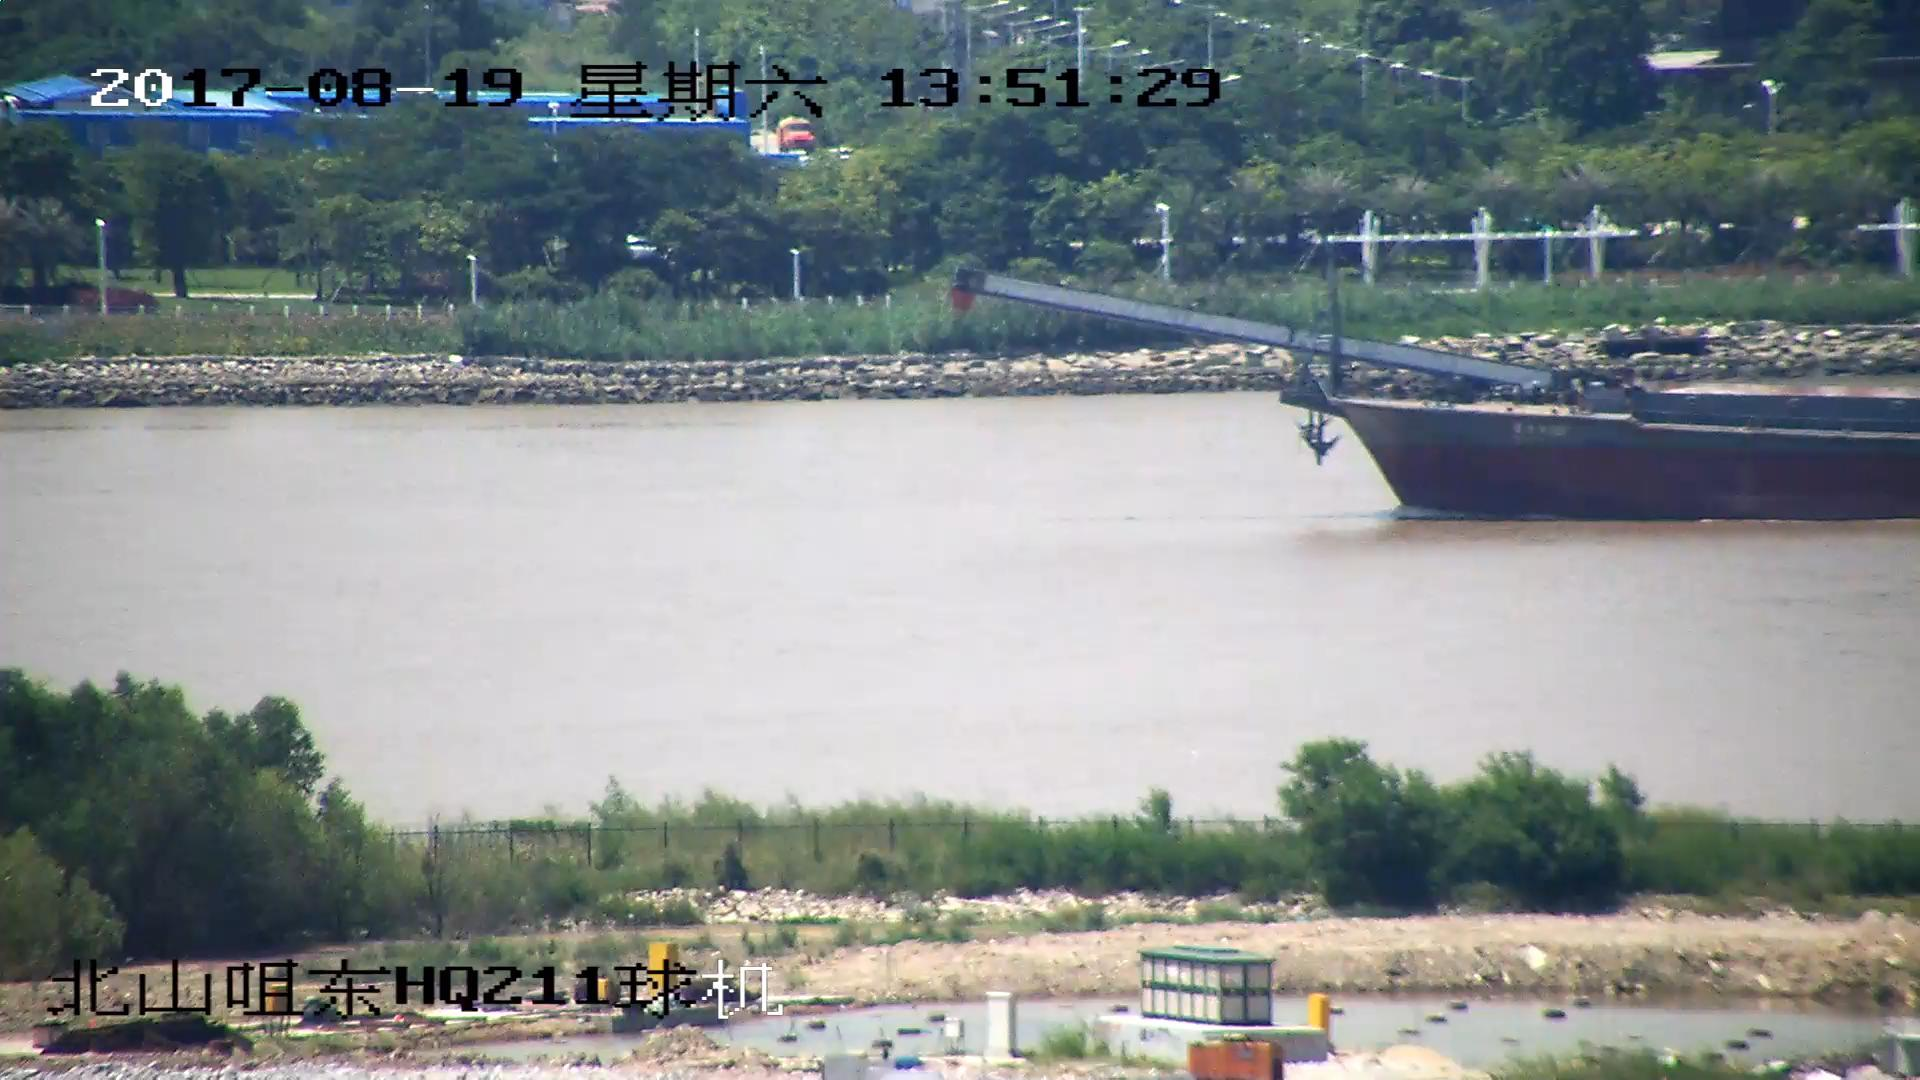Ship: (953, 262, 1920, 526)
